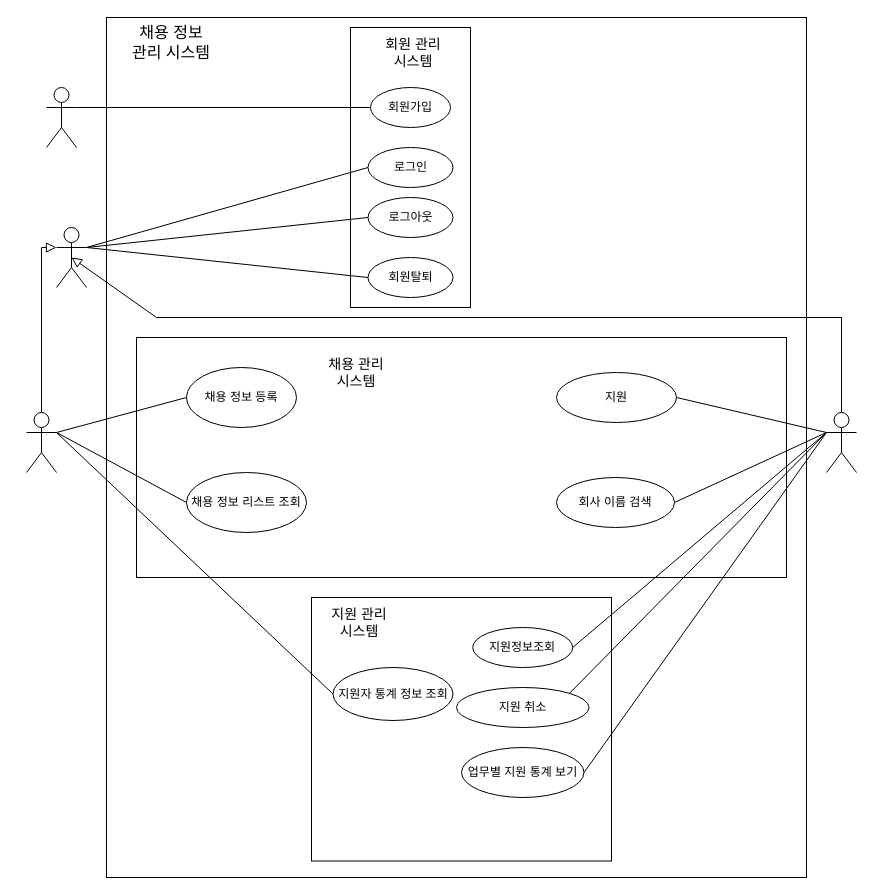
Some shapes in this 882 by 895 pixel diagram are drawn without their labels. The shapes that lost their labels are listed below. From the top down, each one's box as (x1, y1, x2, y2) in pixels, then its label:
(46, 86, 76, 148): 사용자
(56, 226, 86, 288): 회원
(26, 412, 56, 472): 회사 회원
(826, 412, 856, 472): 일반 회원
